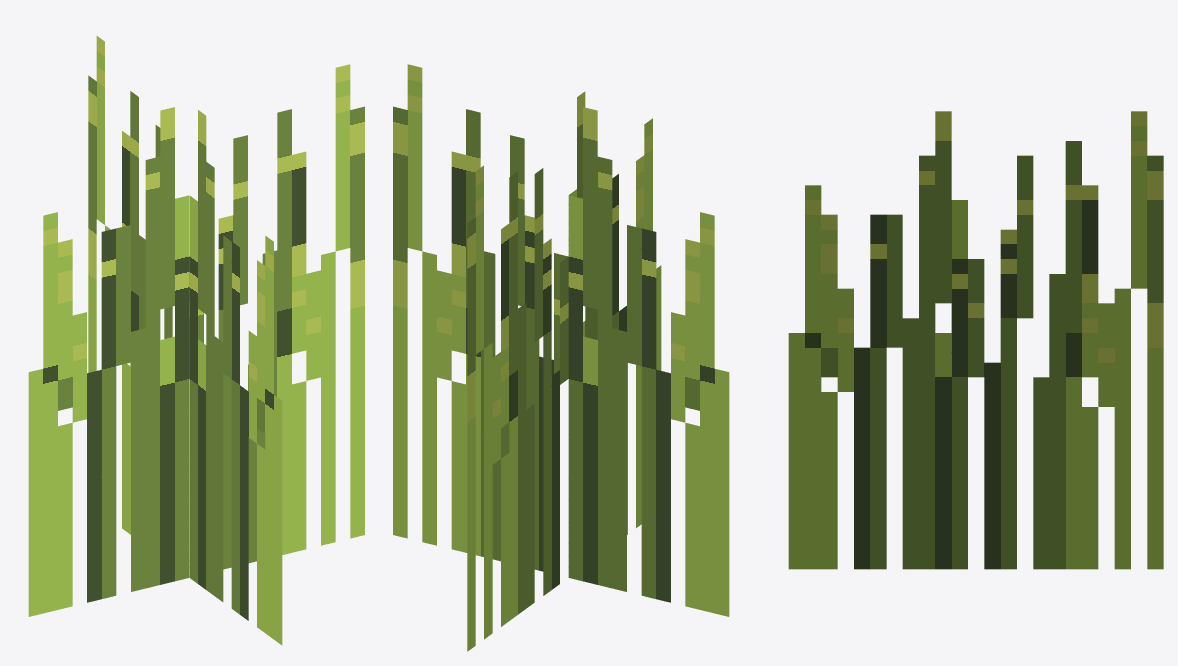
File: grass_1.glb
3 views of the same model, side by side, from view 1: azimuth 30°, elevation 25°; view 2: azimuth 150°, elevation 25°; view 3: azimuth 270°, elevation 25° (orthographic). The views are drawn at different scales.
Visible parts, largest first — view 1: grass_1; view 2: grass_1; view 3: grass_1.
Boxes of the visible parts, x1=… form: grass_1: x1=28, y1=36, x2=364, y2=645; grass_1: x1=393, y1=64, x2=729, y2=651; grass_1: x1=788, y1=111, x2=1163, y2=569.
Bounding box in the file's own units: 24 × 32 × 24.
1 material, 1 textured.
